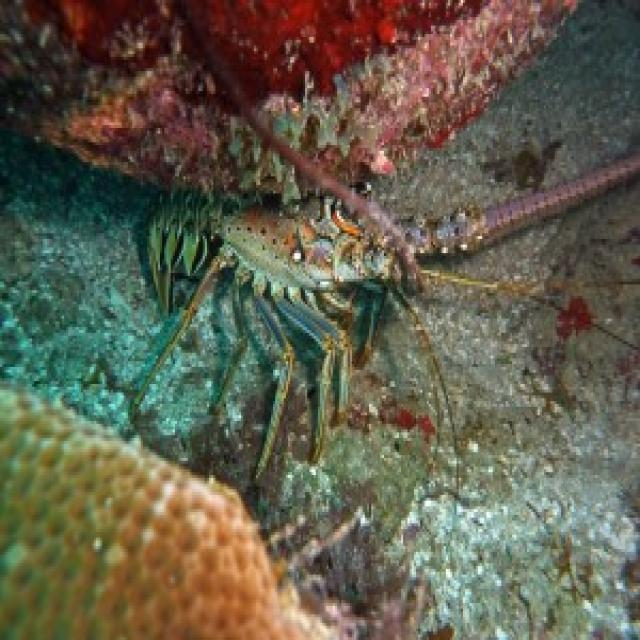lobsters: (138, 109, 538, 532)
